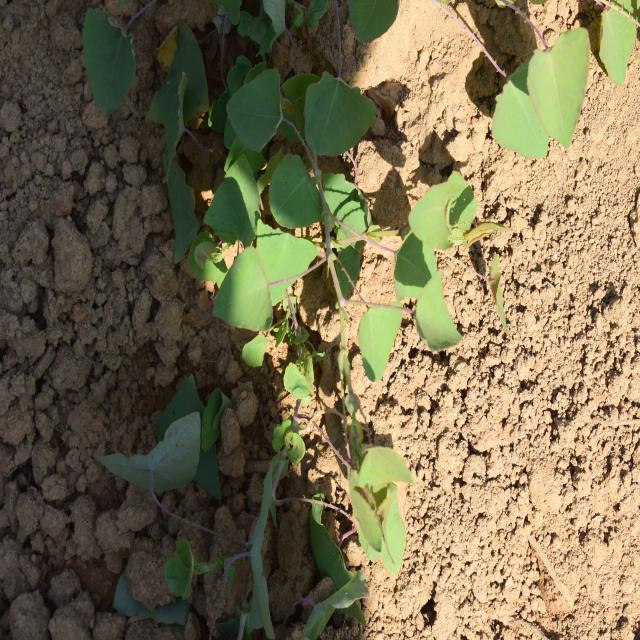Asiatic_Smartweed: (196, 152, 474, 399), (289, 420, 417, 604), (470, 11, 610, 162), (216, 62, 404, 154)
